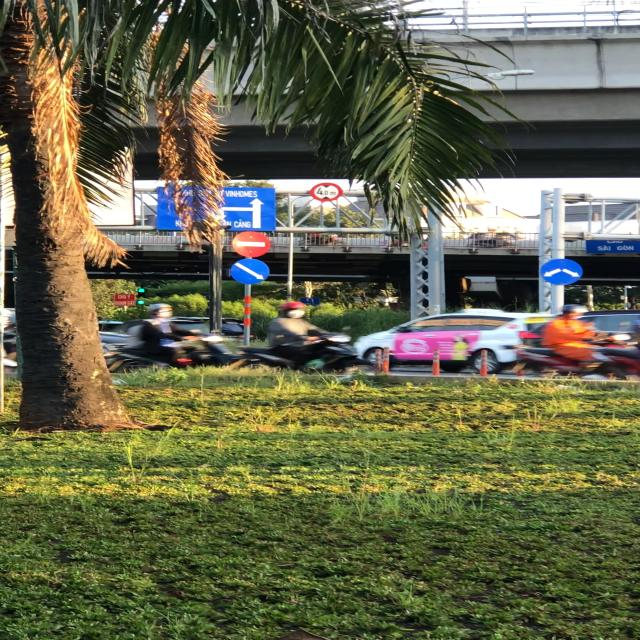Bien bao cam di nguoc chieu: (231, 229, 275, 258)
Bien bao han che chieu cao: (310, 180, 344, 202)
Bien bao huong phai di vong chuong ngai vat: (228, 257, 276, 289), (535, 258, 586, 288)
